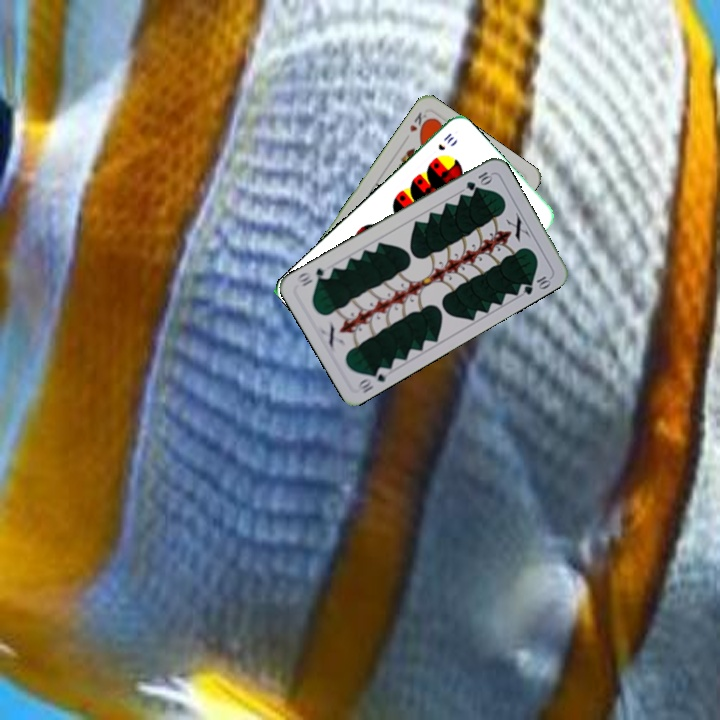G10: (353, 363, 392, 396), (462, 167, 495, 193)
HK: (406, 108, 432, 136)
S10: (434, 129, 457, 153)
